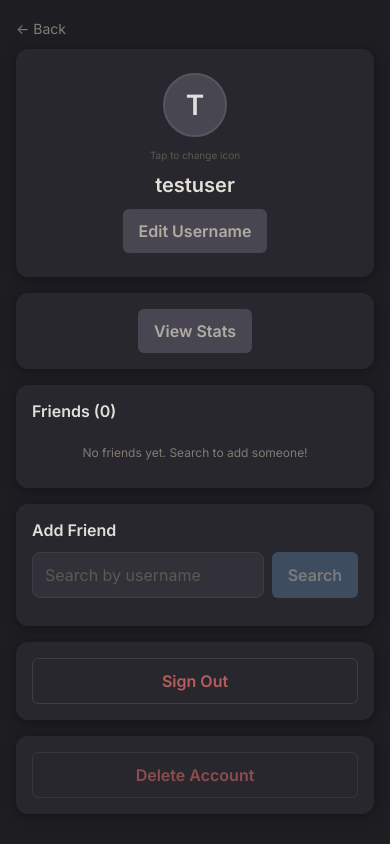
ProfileScreen — delete account › hides confirmation dialog when Cancel is clicked
Click the button "Delete Account".
click(195, 775)  # box left=32, top=752, right=358, bottom=798
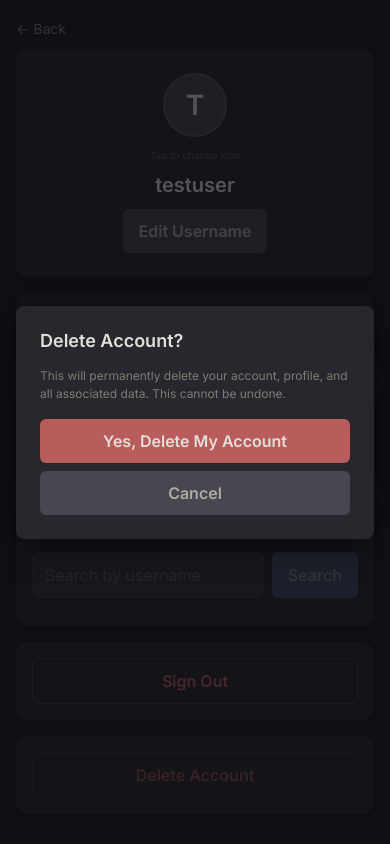
Click the button "Cancel".
click(195, 492)  # box left=40, top=470, right=350, bottom=514
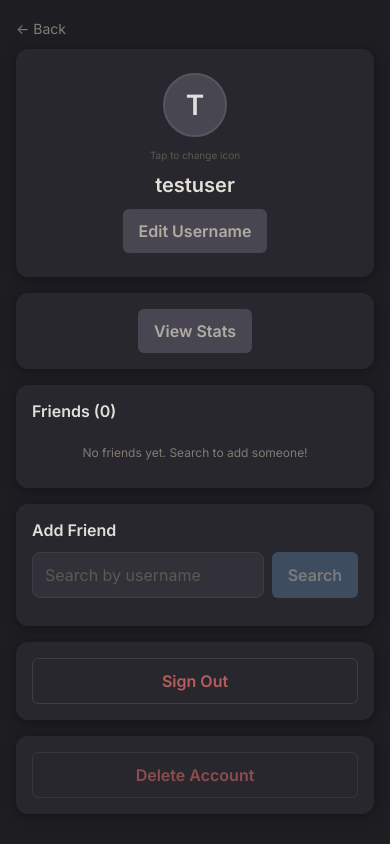
Now the text "This will permanently delete" is gone
